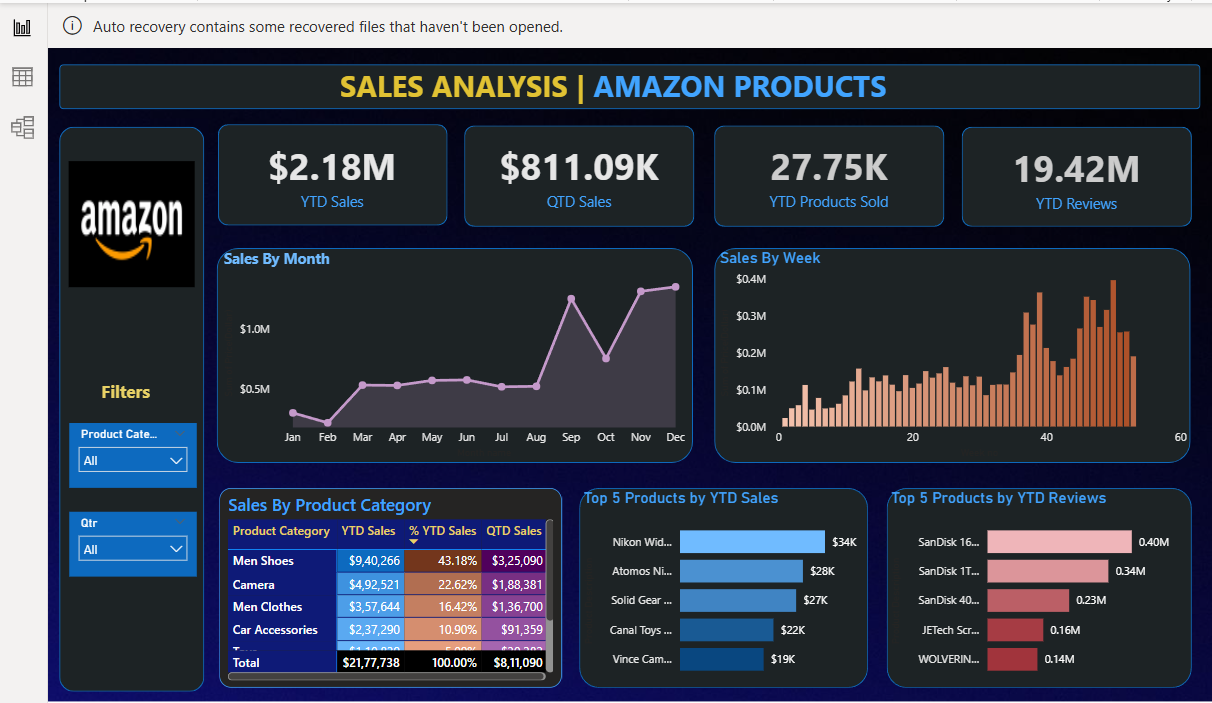

Layout of this report page (visuals, bound fields, positions):
{"tool":"powerbi","page":{"name":"Page 1","canvas":[1280,720],"ordinal":0},"visuals":[{"type":"shape","box":[12.3,17.8,1252.8,49.4],"z":0},{"type":"textbox","box":[315.6,15.1,625.7,54.9],"z":1000},{"type":"shape","box":[12.3,86.4,159.2,620.2],"z":2000},{"type":"shape","box":[186.6,83.7,252,111.1],"z":3000},{"type":"card","fields":{"Values":["Amazon_Data.YTD Sales"]},"box":[185.2,86.4,253.9,107],"z":4000},{"type":"shape","box":[456.9,85.1,252.5,111.1],"z":5000},{"type":"shape","box":[731.4,85.1,252.5,111.1],"z":6000},{"type":"shape","box":[1003.1,86.4,252.5,109.8],"z":7000},{"type":"card","fields":{"Values":["Amazon_Data.QTD Sales"]},"box":[456.9,83.7,252.5,112.5],"z":8000},{"type":"card","fields":{"Values":["Amazon_Data.YTD Products Sold"]},"box":[731.4,86.4,252.5,107],"z":9000},{"type":"card","fields":{"Values":["Amazon_Data.YTD Reviews"]},"box":[1003.1,87.8,252.5,108.4],"z":10000},{"type":"shape","box":[185.2,219.6,522.8,236],"z":11000},{"type":"areaChart","title":"Sales By Month","fields":{"Category":["Date Table.Month name"],"Y":["Sum(Amazon_Data.Price(Dollar))"]},"box":[188,219.6,521.4,236],"z":12000},{"type":"shape","box":[731.4,219.6,522.8,236],"z":13000},{"type":"columnChart","title":"Sales By Week","fields":{"Category":["Date Table.Week no"],"Y":["Sum(Amazon_Data.Price(Dollar))"]},"box":[732.8,219.6,522.8,236],"z":14000},{"type":"pivotTable","title":"Sales By Product Category","fields":{"Rows":["Amazon_Data.Product Category"],"Values":["Amazon_Data.YTD Sales1","Amazon_Data.YTD Sales","Amazon_Data.QTD Sales"]},"box":[188,483,376,219.6],"z":15000},{"type":"shape","box":[583.2,483,317,219.6],"z":16000},{"type":"clusteredBarChart","title":"Top 5 Products by YTD Sales","fields":{"Category":["Amazon_Data.Product Description"],"Y":["Amazon_Data.YTD Sales"]},"box":[583.2,483,321.1,219.6],"z":17000},{"type":"shape","box":[920.8,483,334.8,219.6],"z":18000},{"type":"clusteredBarChart","title":"Top 5 Products by YTD Reviews","fields":{"Category":["Amazon_Data.Product Description"],"Y":["Amazon_Data.YTD Reviews"]},"box":[920.8,483,321.1,219.6],"z":19000},{"type":"slicer","fields":{"Values":["Amazon_Data.Product Category"]},"box":[23.3,411.7,140,71.4],"z":20000},{"type":"slicer","fields":{"Values":["Date Table.Qtr"]},"box":[23.3,509.1,140,71.4],"z":21000},{"type":"image","box":[17.8,119.4,148.2,148.2],"z":22000},{"type":"textbox","box":[53.5,359.5,75.5,45.3],"z":23000}]}

Visuals, with their boxes on the page's 1280x720 design canvas (x1, y1, x2, y2). These are canvas units, not pixel positions in the 1212x703 screenshot, which may show the page scaled, cropped or inside an application window:
shape: BBox(12, 18, 1265, 67)
textbox: BBox(316, 15, 941, 70)
shape: BBox(12, 86, 172, 707)
shape: BBox(187, 84, 439, 195)
card - Amazon_Data.YTD Sales: BBox(185, 86, 439, 193)
shape: BBox(457, 85, 709, 196)
shape: BBox(731, 85, 984, 196)
shape: BBox(1003, 86, 1256, 196)
card - Amazon_Data.QTD Sales: BBox(457, 84, 709, 196)
card - Amazon_Data.YTD Products Sold: BBox(731, 86, 984, 193)
card - Amazon_Data.YTD Reviews: BBox(1003, 88, 1256, 196)
shape: BBox(185, 220, 708, 456)
"Sales By Month" areaChart: BBox(188, 220, 709, 456)
shape: BBox(731, 220, 1254, 456)
"Sales By Week" columnChart: BBox(733, 220, 1256, 456)
"Sales By Product Category" pivotTable: BBox(188, 483, 564, 703)
shape: BBox(583, 483, 900, 703)
"Top 5 Products by YTD Sales" clusteredBarChart: BBox(583, 483, 904, 703)
shape: BBox(921, 483, 1256, 703)
"Top 5 Products by YTD Reviews" clusteredBarChart: BBox(921, 483, 1242, 703)
slicer - Amazon_Data.Product Category: BBox(23, 412, 163, 483)
slicer - Date Table.Qtr: BBox(23, 509, 163, 580)
image: BBox(18, 119, 166, 268)
textbox: BBox(54, 360, 129, 405)
